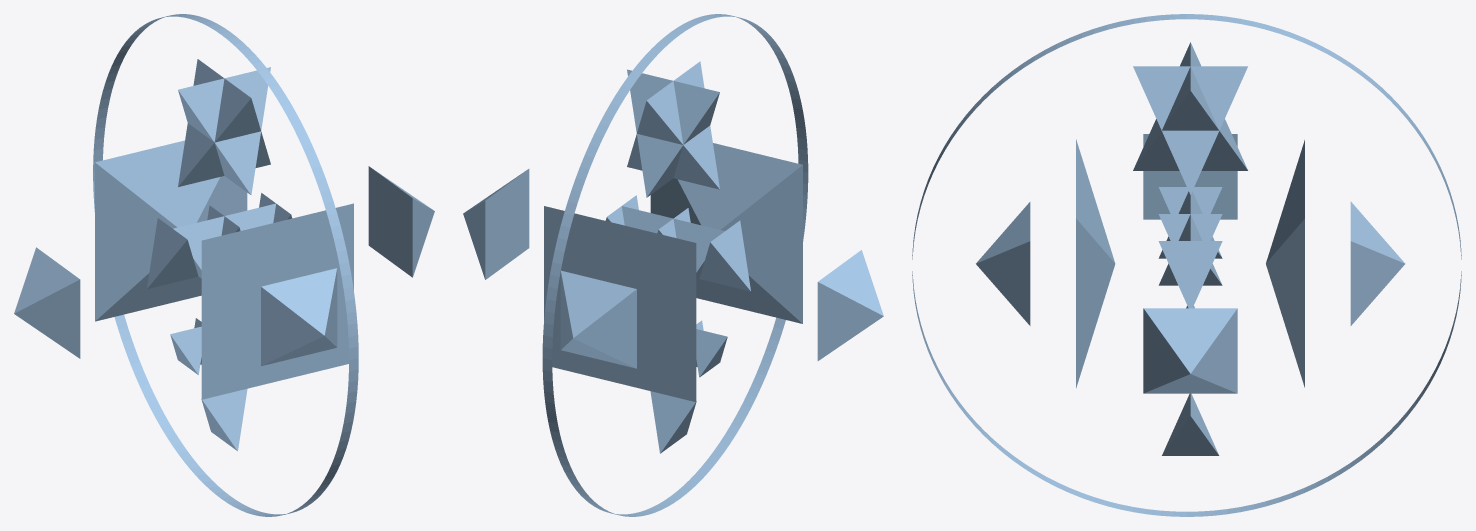
Rendered from prototype_level02.fbx.
The picture shows the model from 3 angles, left to right: view 1: azimuth 30°, elevation 25°; view 2: azimuth 150°, elevation 25°; view 3: azimuth 270°, elevation 25°; orthographic projection. The views are drawn at different scales.
Visible parts, largest first — view 1: geometry; view 2: geometry; view 3: geometry.
Part boxes in pixels (x1,y1,x2,y2): geometry: (14, 14, 434, 516); geometry: (463, 14, 883, 516); geometry: (912, 14, 1461, 516).
Size of the model in its own units: 22.77 by 24 by 24.
